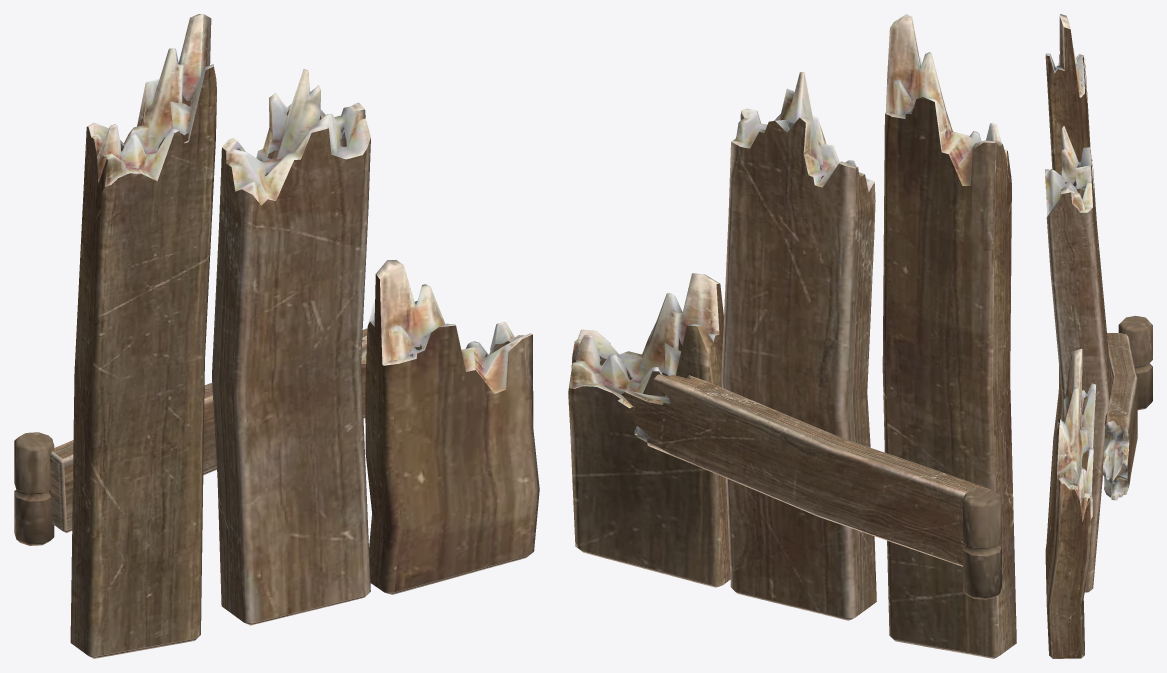
The picture shows the model from 3 angles, left to right: view 1: azimuth 30°, elevation 25°; view 2: azimuth 150°, elevation 25°; view 3: azimuth 270°, elevation 25°; orthographic projection. The views are drawn at different scales.
Parts seen in each view (by area): view 1: SM_Human_Ruins_Shutter_Dmg_04_LOD0; view 2: SM_Human_Ruins_Shutter_Dmg_04_LOD0; view 3: SM_Human_Ruins_Shutter_Dmg_04_LOD0.
Boxes of the visible parts, bbox=[...] form: SM_Human_Ruins_Shutter_Dmg_04_LOD0: bbox=[14, 14, 539, 658]; SM_Human_Ruins_Shutter_Dmg_04_LOD0: bbox=[568, 14, 1016, 658]; SM_Human_Ruins_Shutter_Dmg_04_LOD0: bbox=[1045, 14, 1152, 658].
Size of the model in its own units: 0.834 by 1.06 by 0.1985.
1 material, 1 textured.
